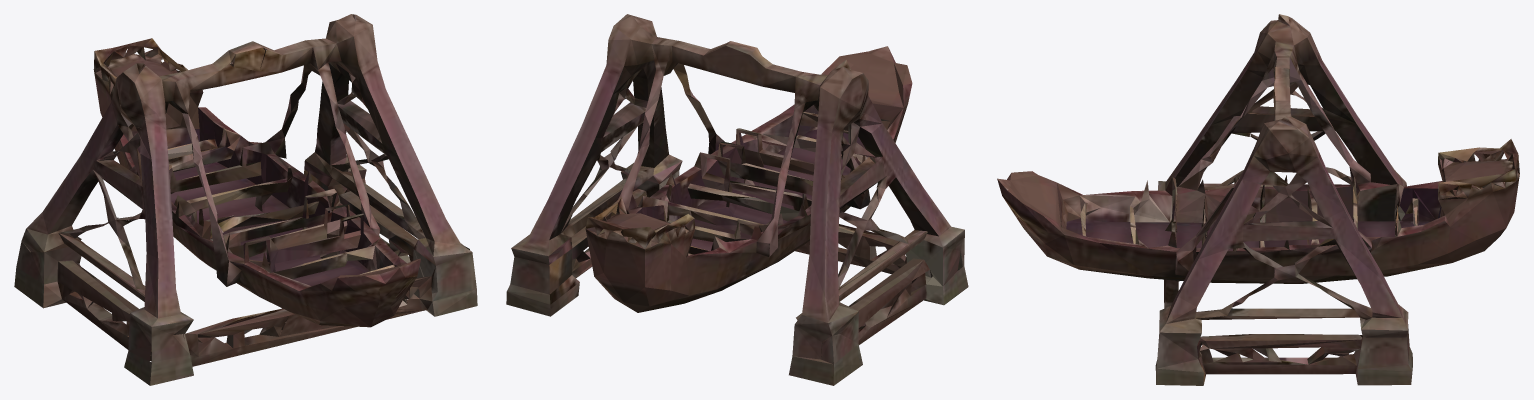
The model's file is park_pirate_ride_1117.glb.
3 renders of one model, left to right at view 1: azimuth 30°, elevation 25°; view 2: azimuth 150°, elevation 25°; view 3: azimuth 270°, elevation 25°, orthographic. The views are drawn at different scales.
Parts seen in each view (by area): view 1: world; view 2: world; view 3: world.
Boxes of the visible parts, left/top/right/bottom form: world: left=14, top=14, right=477, bottom=385; world: left=506, top=14, right=968, bottom=385; world: left=997, top=14, right=1519, bottom=385.
Size of the model in its own units: 1.32 by 1 by 1.92.
1 material, 1 textured.
